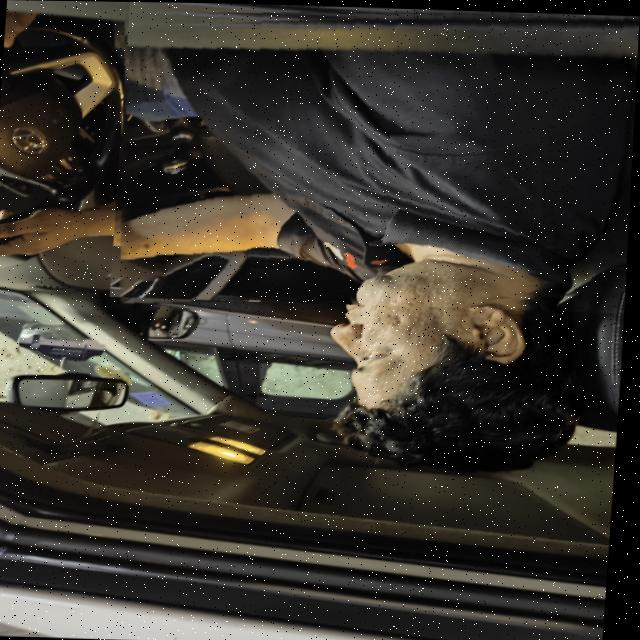no-seatbelt: (111, 1, 640, 309)
